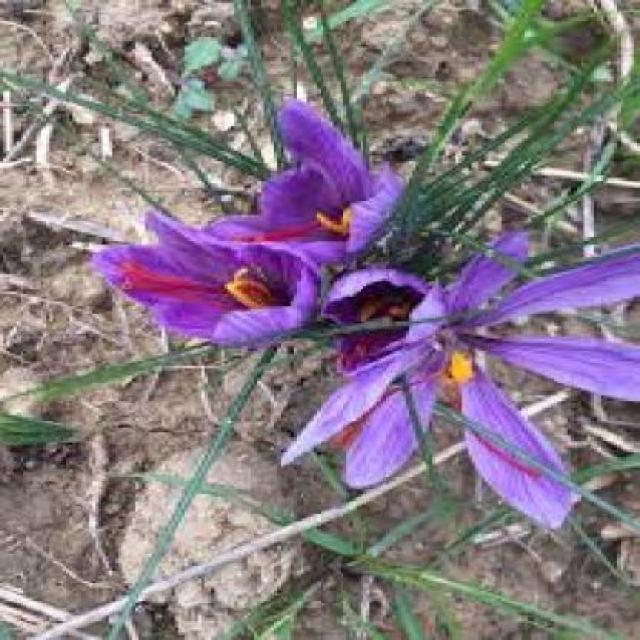saffron open: (205, 100, 401, 264), (95, 212, 319, 345), (321, 269, 448, 368)
